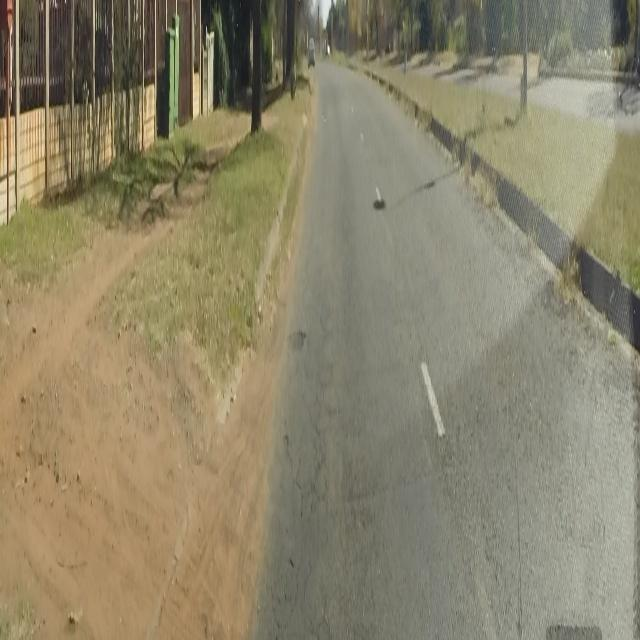pothole: (286, 316, 308, 356)
